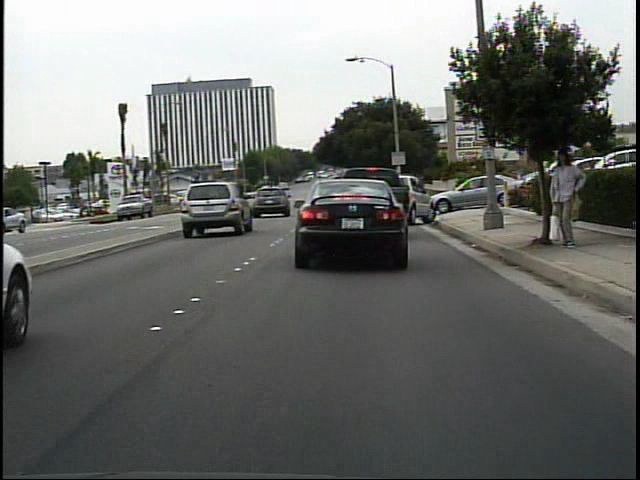person: (546, 142, 588, 251)
